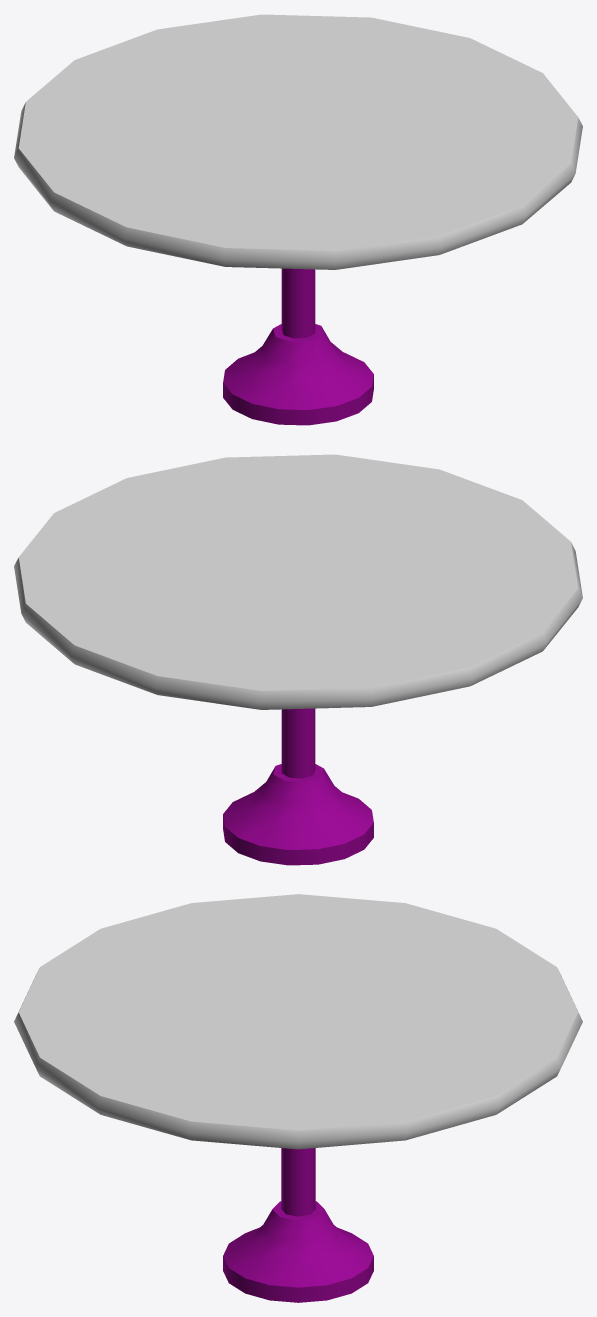
File: RoundTable.FBX
The picture shows the model from 3 angles, top to bottom: view 1: azimuth 30°, elevation 25°; view 2: azimuth 150°, elevation 25°; view 3: azimuth 270°, elevation 25°; orthographic projection.
Parts seen in each view (by area): view 1: PRP_RoundTable_1; view 2: PRP_RoundTable_1; view 3: PRP_RoundTable_1.
Part boxes in pixels (left/top/right/bottom): PRP_RoundTable_1: left=14, top=14, right=582, bottom=425; PRP_RoundTable_1: left=14, top=454, right=582, bottom=865; PRP_RoundTable_1: left=14, top=894, right=582, bottom=1302.
Bounding box in the file's own units: 141 × 70.85 × 141.
